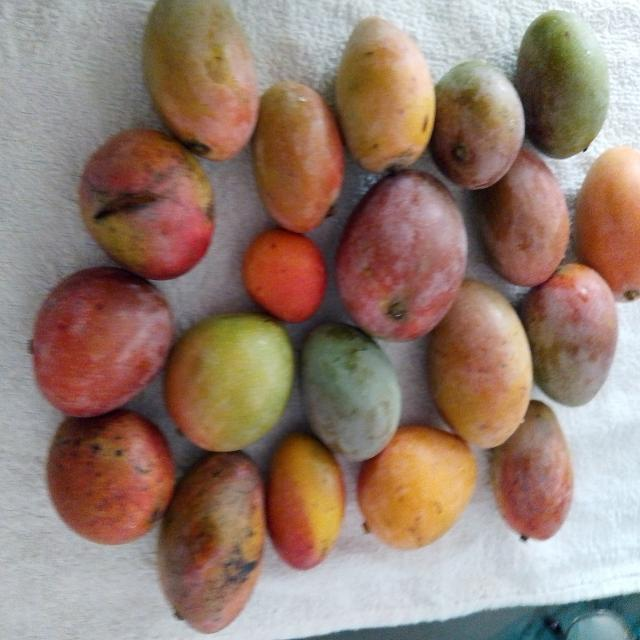mango: (26, 264, 178, 418), (75, 128, 224, 284), (336, 170, 467, 341), (158, 452, 265, 633), (144, 0, 259, 160), (165, 313, 294, 451), (427, 280, 532, 448), (47, 410, 175, 544), (335, 17, 435, 172), (358, 426, 476, 549), (515, 10, 609, 158), (252, 81, 344, 232), (521, 264, 618, 406), (301, 323, 401, 460), (474, 148, 569, 286), (430, 61, 524, 189), (491, 401, 573, 539), (267, 432, 345, 569), (575, 147, 639, 301), (238, 224, 332, 328)
